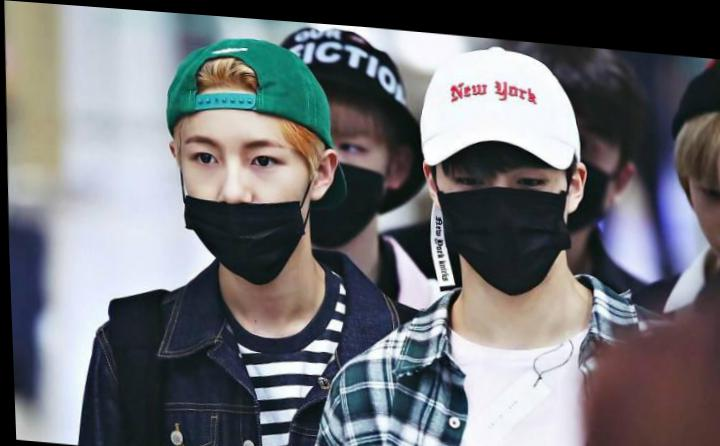NONE: (690, 156, 720, 257)
OK: (436, 149, 581, 289), (272, 118, 390, 247), (515, 97, 627, 228)
WRONG: (174, 114, 310, 278)
